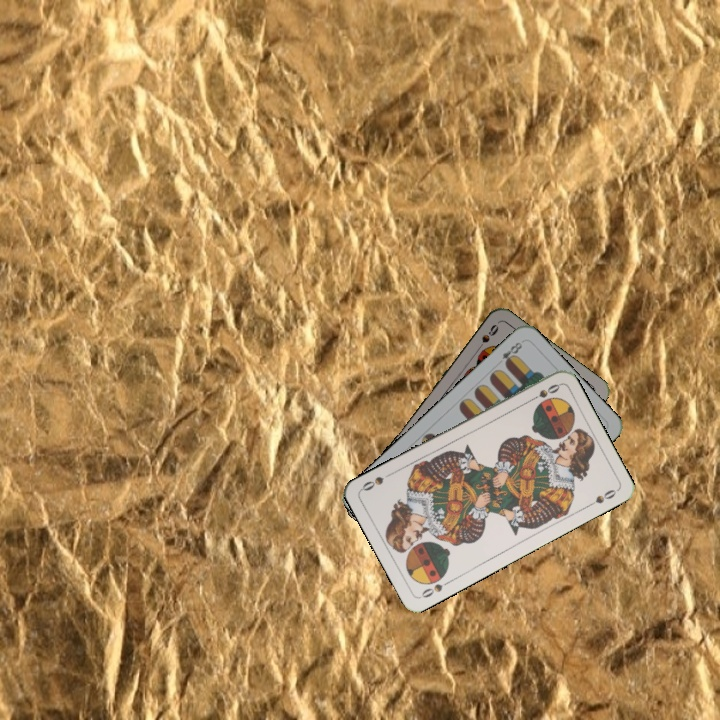E8: (498, 338, 525, 369)
S9: (471, 320, 501, 355)
SO: (524, 380, 563, 405), (416, 576, 454, 601)
